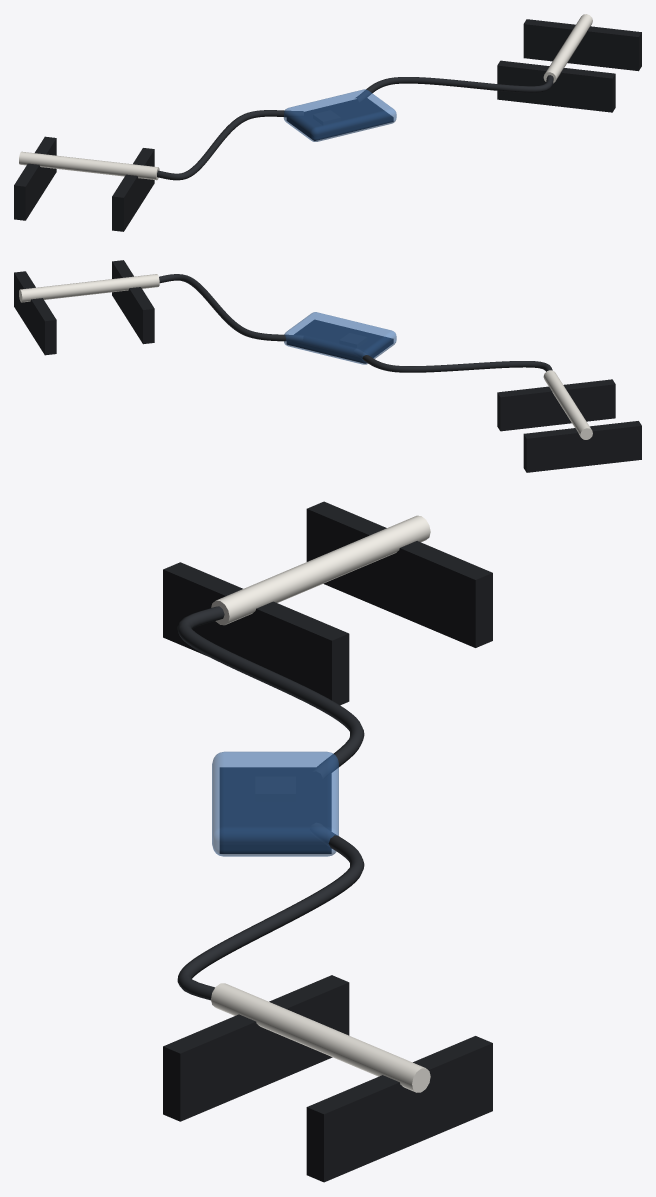
3 views of the same model, one above another, from view 1: azimuth 30°, elevation 25°; view 2: azimuth 150°, elevation 25°; view 3: azimuth 270°, elevation 25° (orthographic). The views are drawn at different scales.
Parts seen in each view (by area): view 1: Zip tie (×4), Heat shrink, Antenna tube (×2), RX antenna lead (×2), RX board; view 2: Zip tie (×4), Heat shrink, Antenna tube (×2), RX antenna lead (×2), RX board; view 3: Zip tie (×4), Heat shrink, Antenna tube (×2), RX antenna lead (×2), RX board, RF chip.
Part boxes in pixels (left/top/right/bottom): Zip tie (×4): left=14, top=19, right=641, bottom=231; Heat shrink: left=283, top=89, right=396, bottom=141; Antenna tube (×2): left=19, top=14, right=592, bottom=180; RX antenna lead (×2): left=157, top=75, right=553, bottom=180; RX board: left=287, top=98, right=393, bottom=140; Zip tie (×4): left=14, top=260, right=641, bottom=472; Heat shrink: left=284, top=312, right=396, bottom=364; Antenna tube (×2): left=19, top=274, right=592, bottom=439; RX antenna lead (×2): left=159, top=274, right=552, bottom=372; RX board: left=287, top=320, right=393, bottom=363; Zip tie (×4): left=163, top=501, right=492, bottom=1182; Heat shrink: left=212, top=751, right=338, bottom=856; Antenna tube (×2): left=211, top=515, right=430, bottom=1092; RX antenna lead (×2): left=177, top=606, right=364, bottom=1000; RX board: left=220, top=767, right=331, bottom=853; RF chip: left=255, top=777, right=295, bottom=801.
Bounding box in the file's own units: 0.1428 × 0.0094 × 0.0325.
